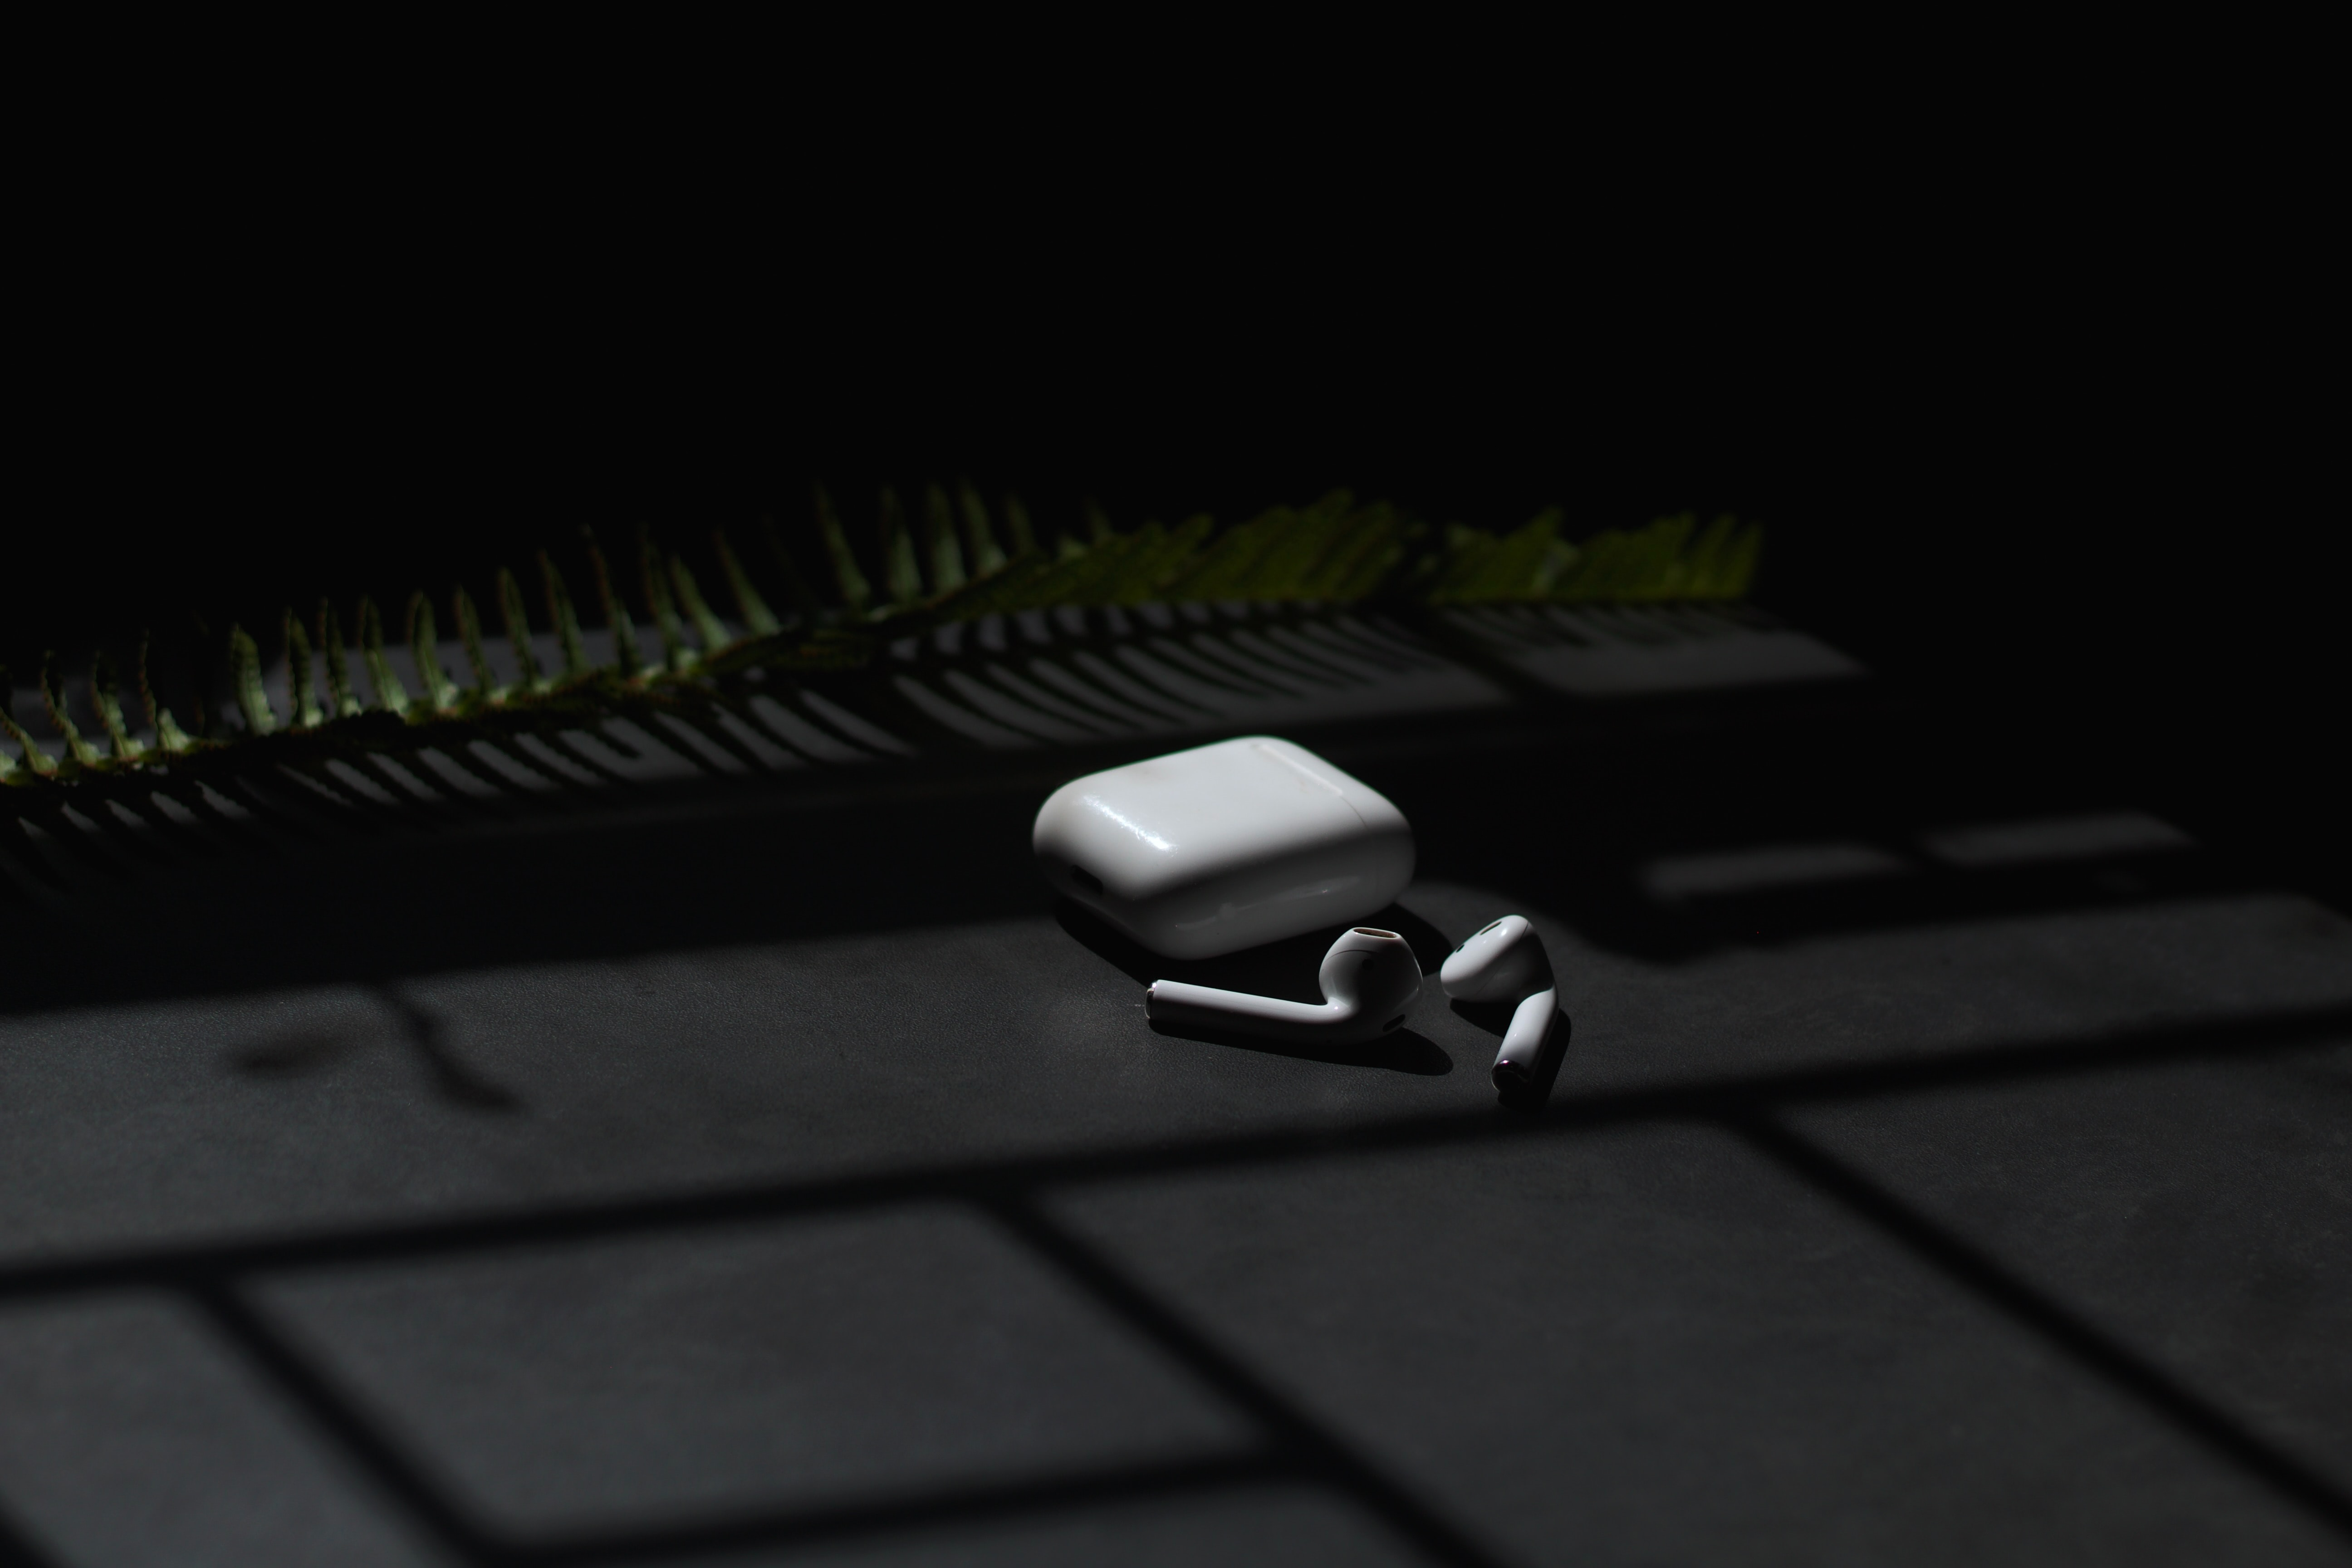airpods: (1031, 719, 1419, 961)
